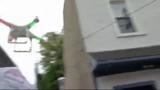UAV: (0, 16, 44, 53)
